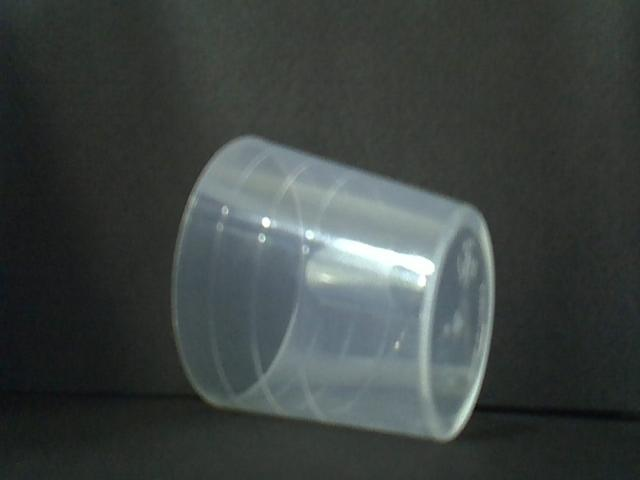cup: (164, 118, 502, 449)
